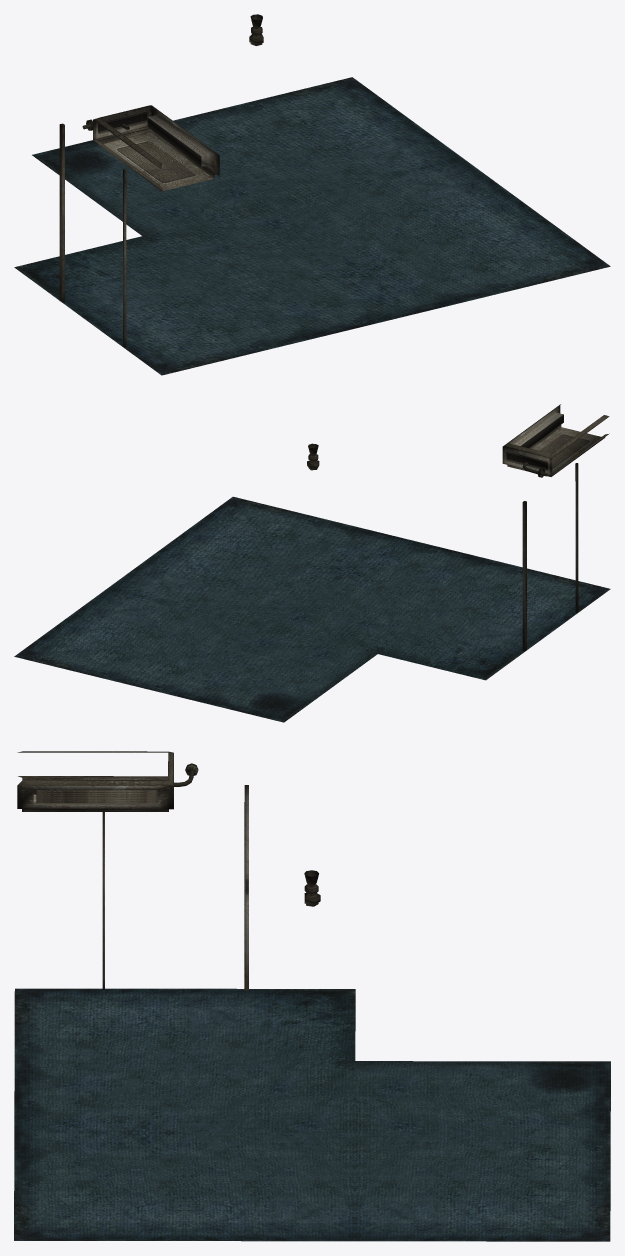
File: Room6.obj
3 views of the same model, one above another, from view 1: azimuth 30°, elevation 25°; view 2: azimuth 150°, elevation 25°; view 3: azimuth 270°, elevation 25° (orthographic). The views are drawn at different scales.
Parts seen in each view (by area): view 1: Room6; view 2: Room6; view 3: Room6.
Boxes of the visible parts, x1,y1,x2,y2 form: Room6: [14, 14, 610, 375]; Room6: [14, 404, 610, 722]; Room6: [14, 751, 610, 1241].
Size of the model in its own units: 59.24 by 26.39 by 59.07.
